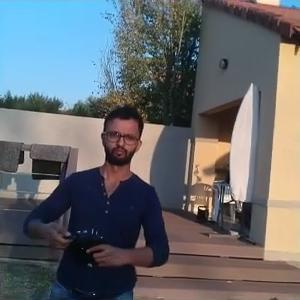follow: (17, 97, 173, 298)
